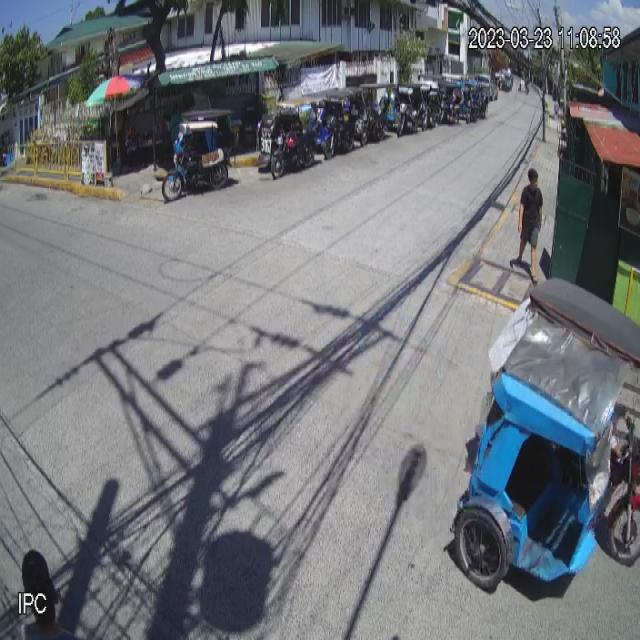Tricycle: (453, 275, 640, 589)
